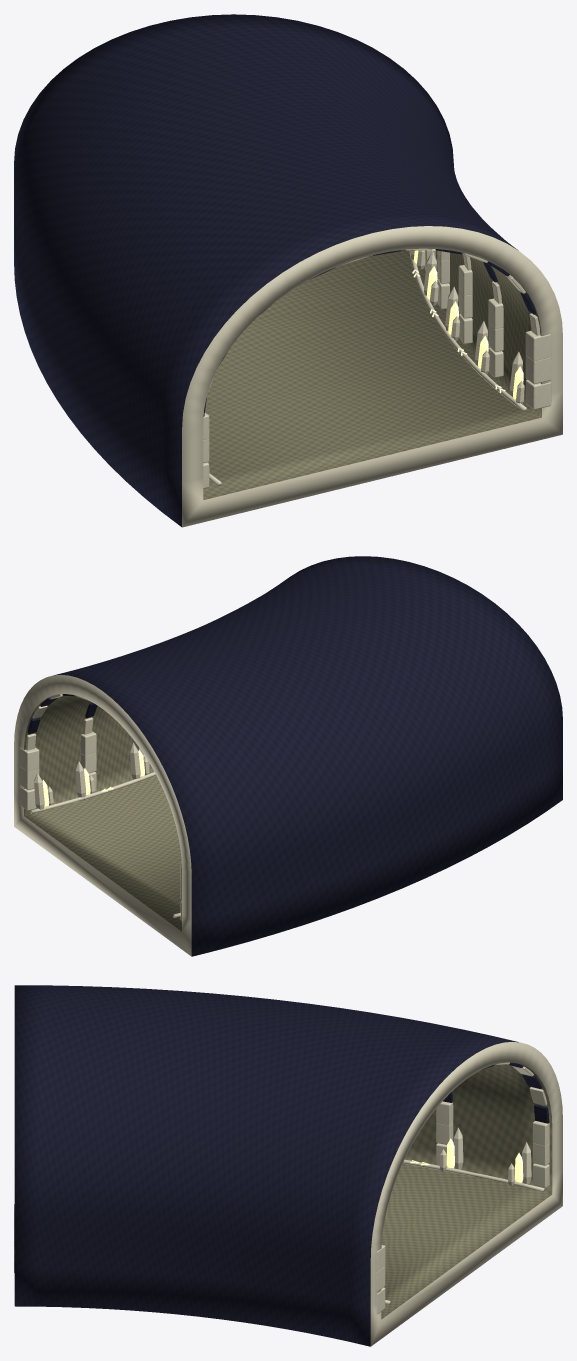
Rendered from curve_right_30.glb.
The picture shows the model from 3 angles, top to bottom: view 1: azimuth 30°, elevation 25°; view 2: azimuth 150°, elevation 25°; view 3: azimuth 270°, elevation 25°; orthographic projection. The views are drawn at different scales.
Visible parts, largest first — view 1: TunnelGeometry; view 2: TunnelGeometry; view 3: TunnelGeometry.
Part boxes in pixels (bbox=[...]): TunnelGeometry: bbox=[14, 14, 562, 527]; TunnelGeometry: bbox=[14, 556, 562, 956]; TunnelGeometry: bbox=[14, 985, 562, 1346].
Bounding box in the file's own units: 19.1 × 9.52 × 21.85.
Materials: 4 (2 with a texture image).
